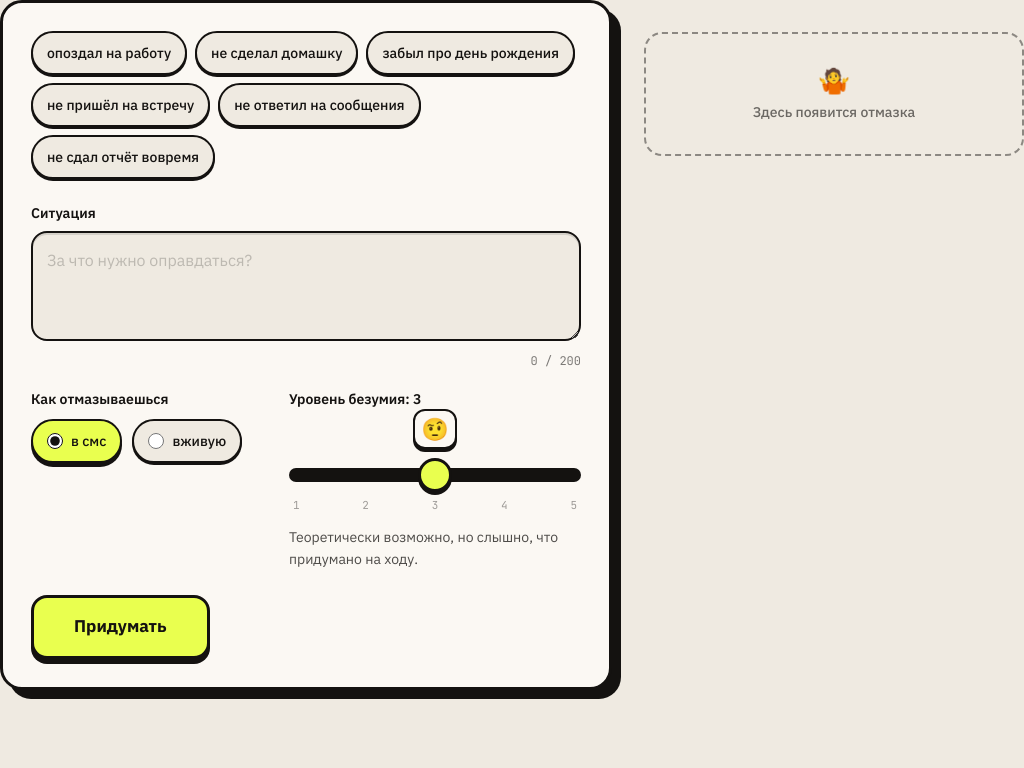
Scenario: ExcuseForm › объявляет появление отмазки
The image size is (1024, 768).
Type "проспал" into the text box labelled "Ситуация" at [306, 286], box [31, 231, 581, 341]
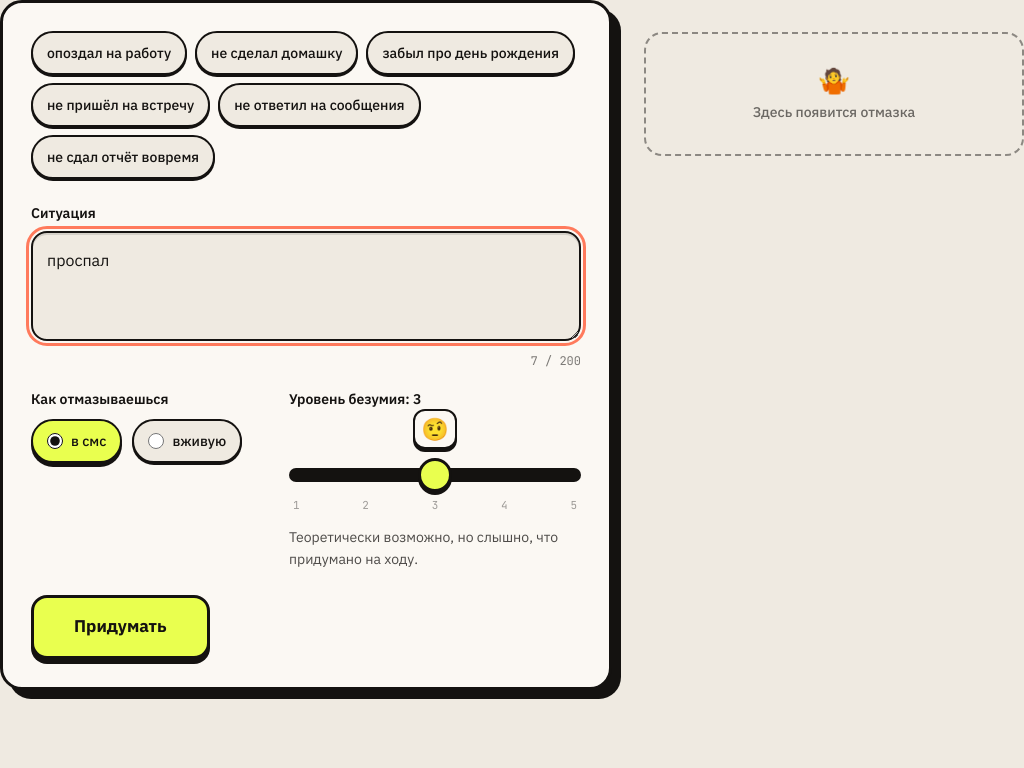
Click the button "Придумать" at [120, 627], box [31, 595, 210, 658]
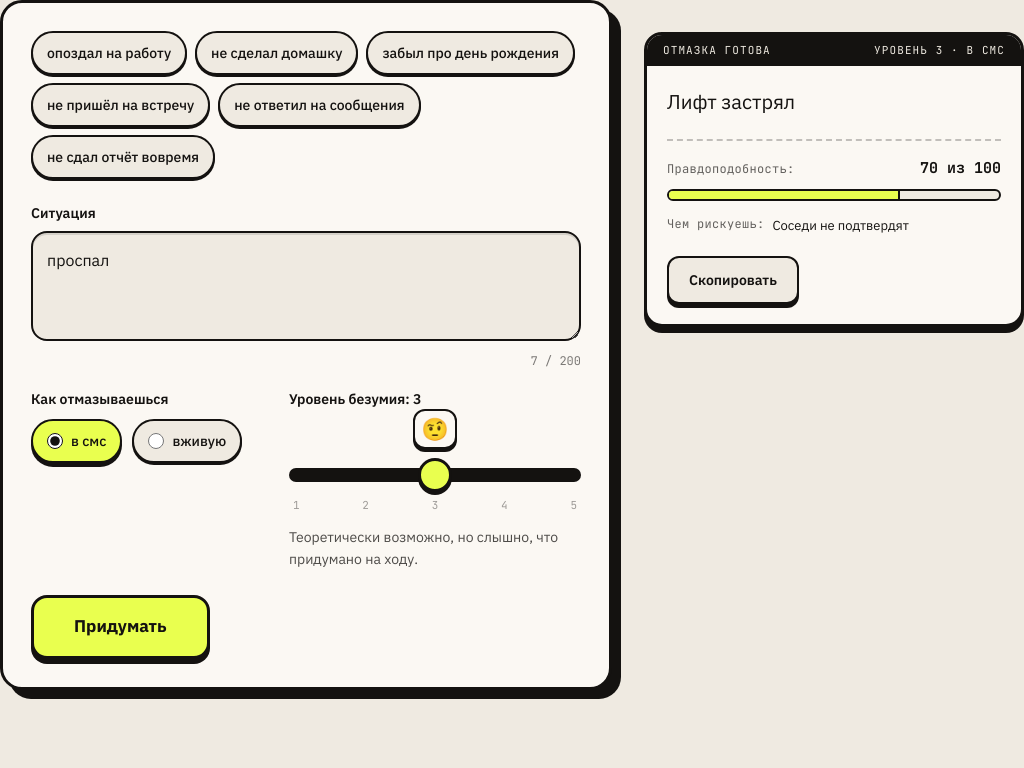
Expected: the text "Лифт застрял" is shown, [667, 88, 795, 115]
